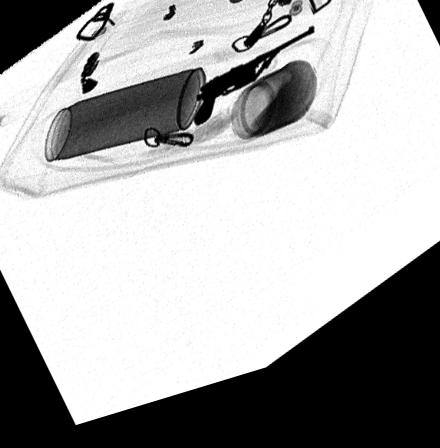Gun: (193, 43, 315, 141)
